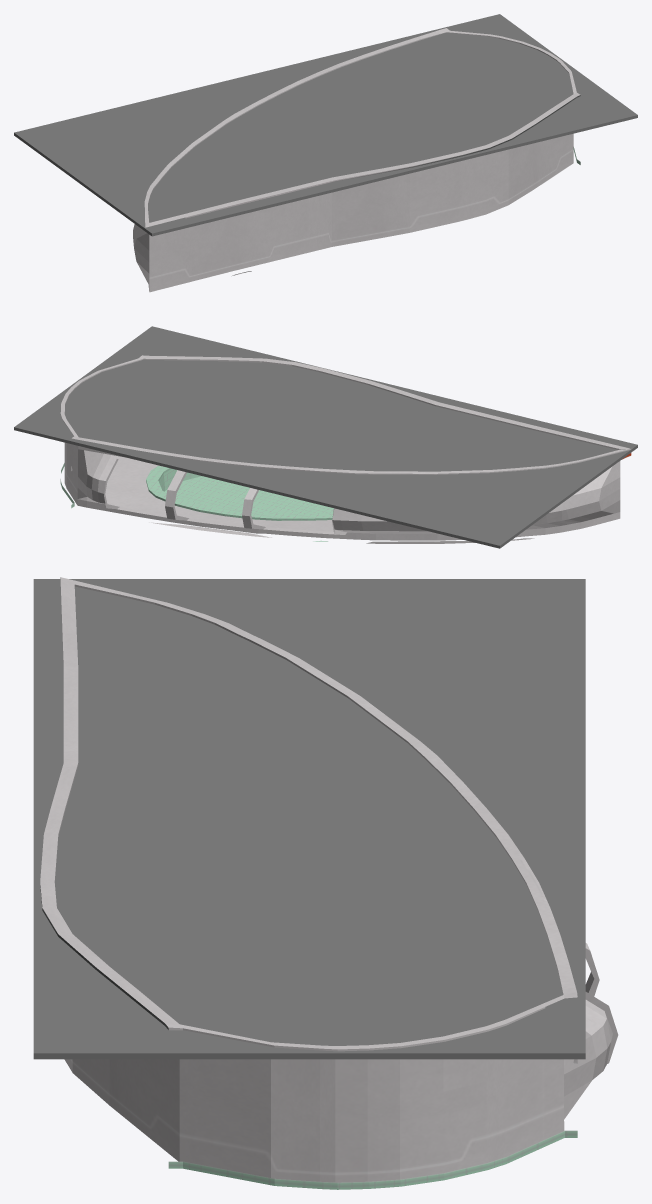
File: Pool_Environ.fbx
3 renders of one model, top to bottom at view 1: azimuth 30°, elevation 25°; view 2: azimuth 150°, elevation 25°; view 3: azimuth 270°, elevation 25°, orthographic. The views are drawn at different scales.
Visible parts, largest first — view 1: PoolRoof, Pool Environment; view 2: PoolRoof, Pool Environment; view 3: PoolRoof, Pool Environment.
Boxes of the visible parts, left/top/right/bottom form: PoolRoof: left=14, top=14, right=637, bottom=236; Pool Environment: left=133, top=28, right=580, bottom=292; PoolRoof: left=14, top=326, right=637, bottom=548; Pool Environment: left=60, top=355, right=631, bottom=543; PoolRoof: left=33, top=579, right=585, bottom=1059; Pool Environment: left=40, top=577, right=618, bottom=1189.
Size of the model in its own units: 31.56 by 5.85 by 16.45.
